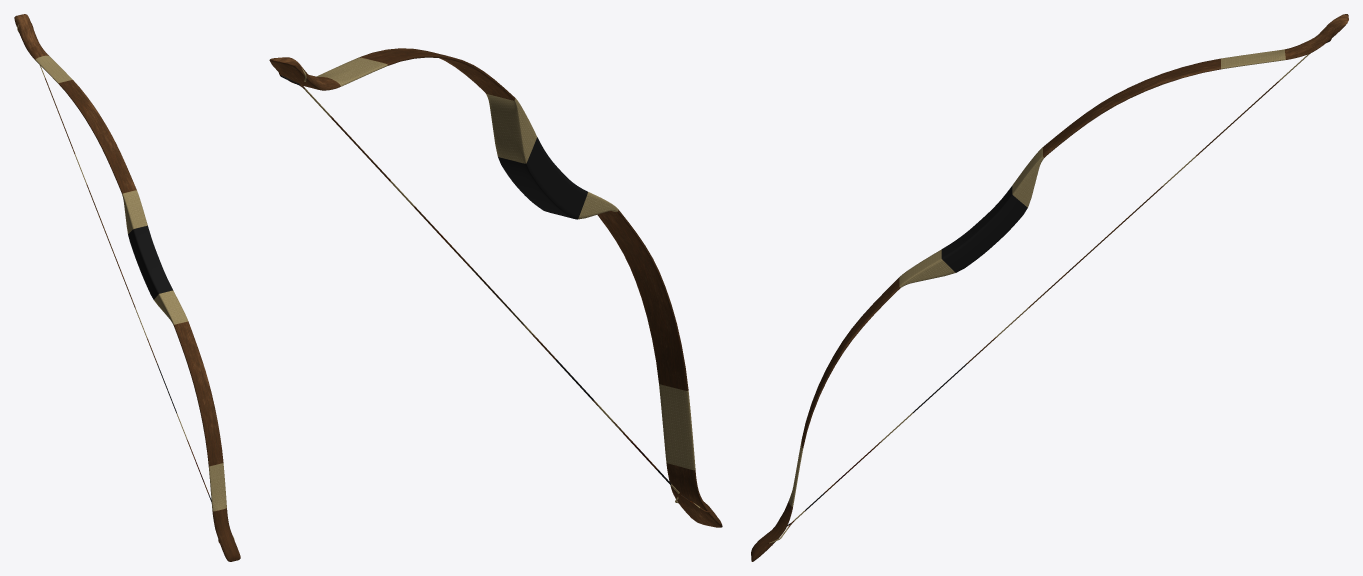
File: traditional.glb
3 views of the same model, side by side, from view 1: azimuth 30°, elevation 25°; view 2: azimuth 150°, elevation 25°; view 3: azimuth 270°, elevation 25° (orthographic). The views are drawn at different scales.
Visible parts, largest first — view 1: traditionalBow; view 2: traditionalBow; view 3: traditionalBow.
Boxes of the visible parts, bbox=[...] form: traditionalBow: bbox=[14, 14, 240, 561]; traditionalBow: bbox=[269, 48, 722, 527]; traditionalBow: bbox=[751, 14, 1348, 561].
Size of the model in its own units: 0.3211 by 7.95 by 7.95.
Materials: 1 (1 with a texture image).
